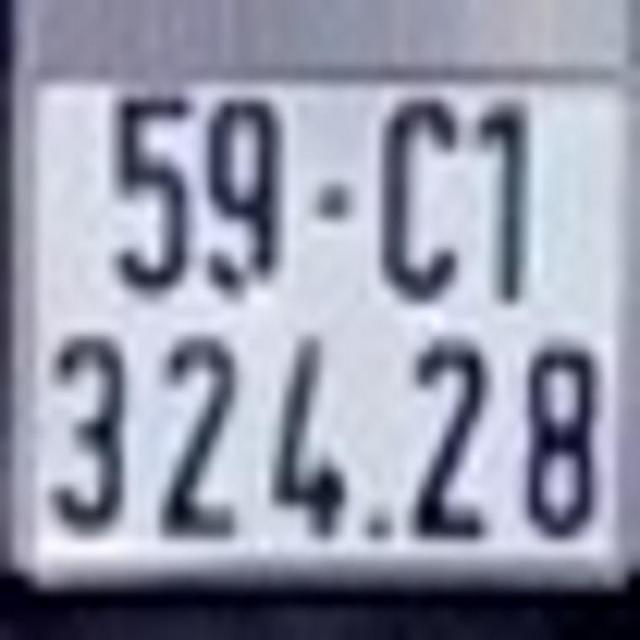1: (472, 90, 542, 306)
2: (401, 334, 492, 540), (158, 329, 241, 544)
3: (42, 330, 133, 529)
4: (268, 332, 348, 538)
5: (113, 91, 194, 296)
8: (522, 332, 601, 535)
9: (197, 89, 287, 298)
C: (372, 90, 464, 306)
